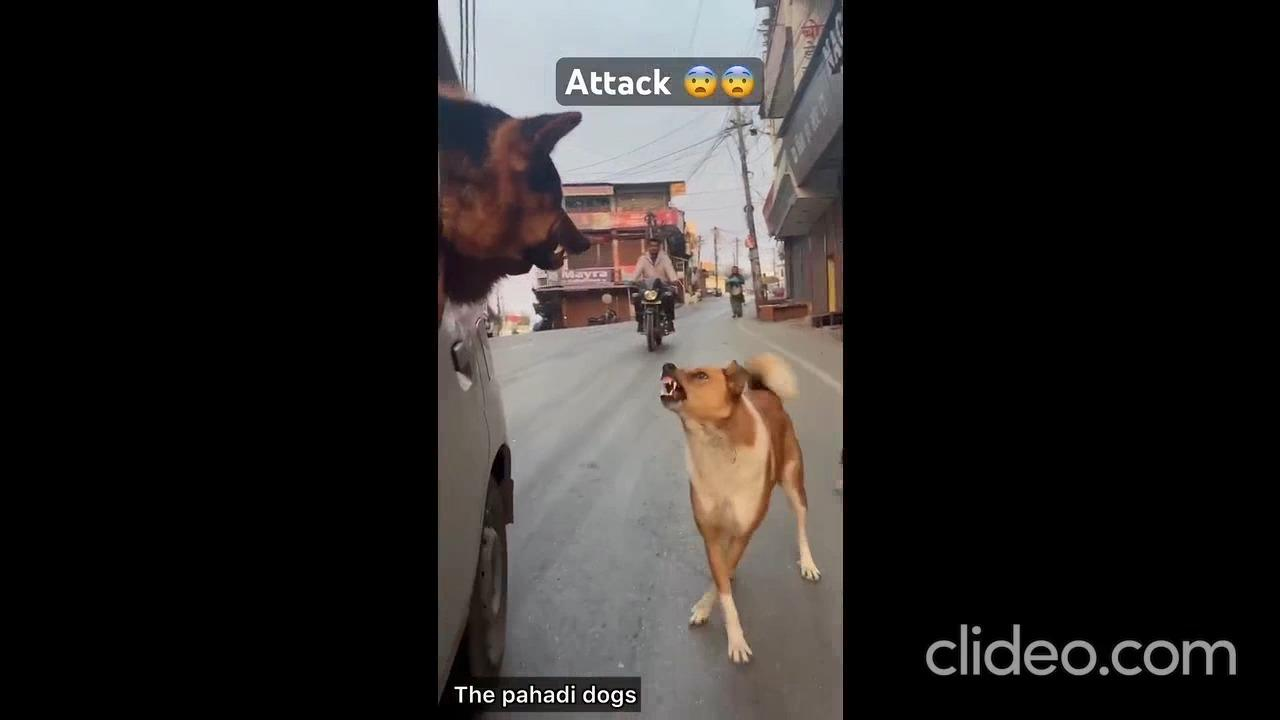dog: (659, 345, 819, 643)
